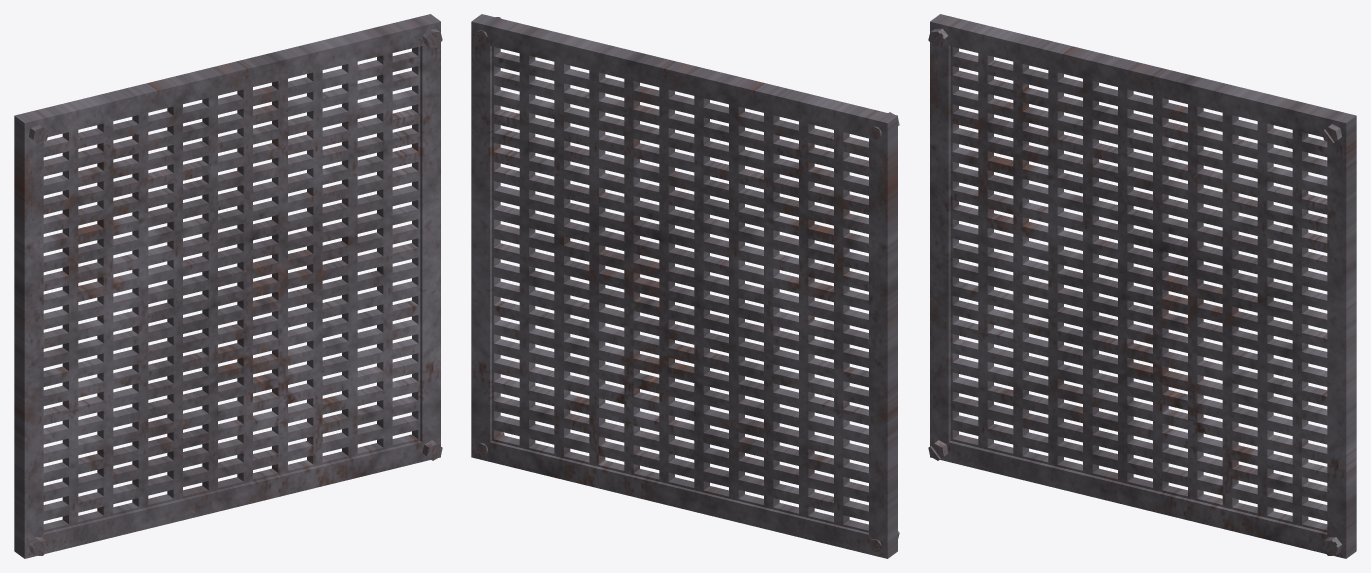
The model's file is vent.fbx.
3 renders of one model, left to right at view 1: azimuth 30°, elevation 25°; view 2: azimuth 150°, elevation 25°; view 3: azimuth 330°, elevation 25°, orthographic.
Visible parts, largest first — view 1: vent; view 2: vent; view 3: vent.
Boxes of the visible parts, <box> form: vent: <box>14,14,440,558</box>; vent: <box>471,14,897,558</box>; vent: <box>930,14,1356,558</box>.
Size of the model in its own units: 108 by 108 by 7.66.
